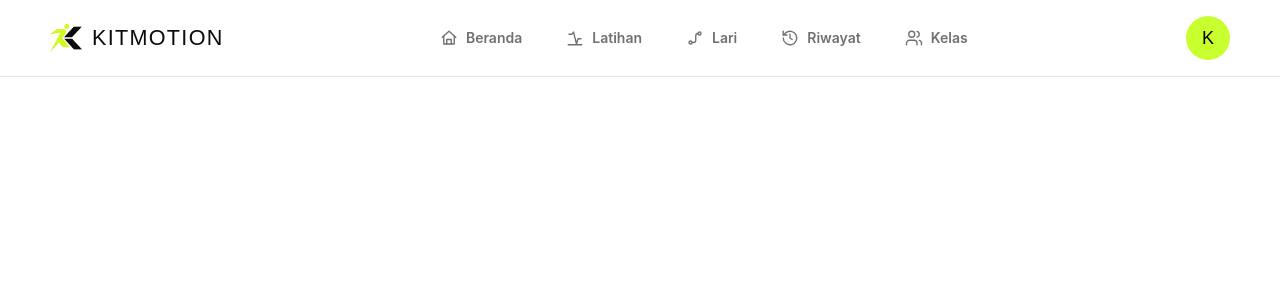
Test: AppNav › opens an account menu from the desktop avatar
The image size is (1280, 308).
Expected: the link "profil" is not shown
Click the button named "Buka menu akun": (1208,38) 1184,14 -> 1232,62
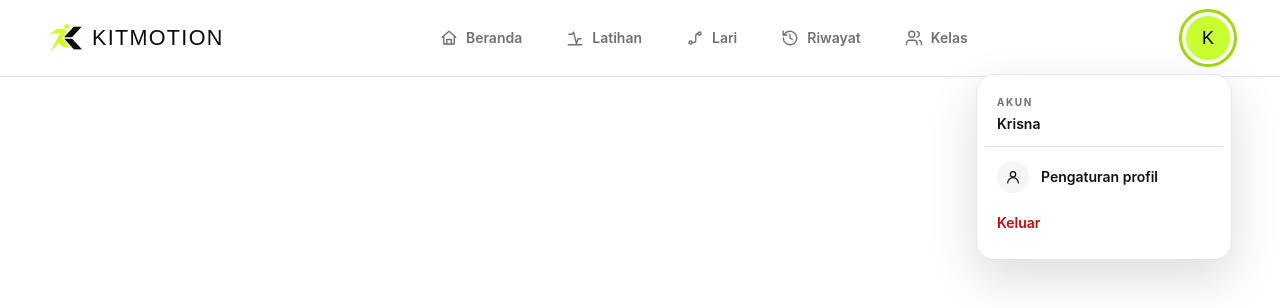
Expected: the number of pictures named "Foto profil Krisna" is 1, 1186,16 -> 1230,60
Now the button named "Buka menu akun" is expanded, box 1184,14 -> 1232,62
Now the button "Keluar" is shown, box 985,203 -> 1223,243
